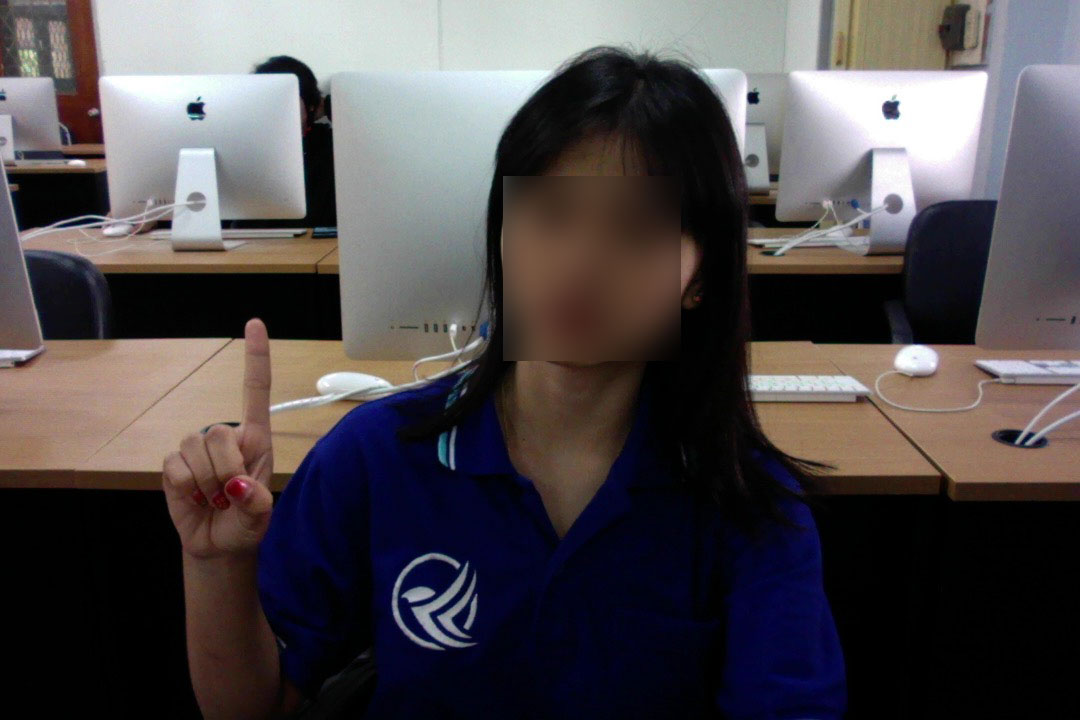dor: (157, 310, 288, 571)
